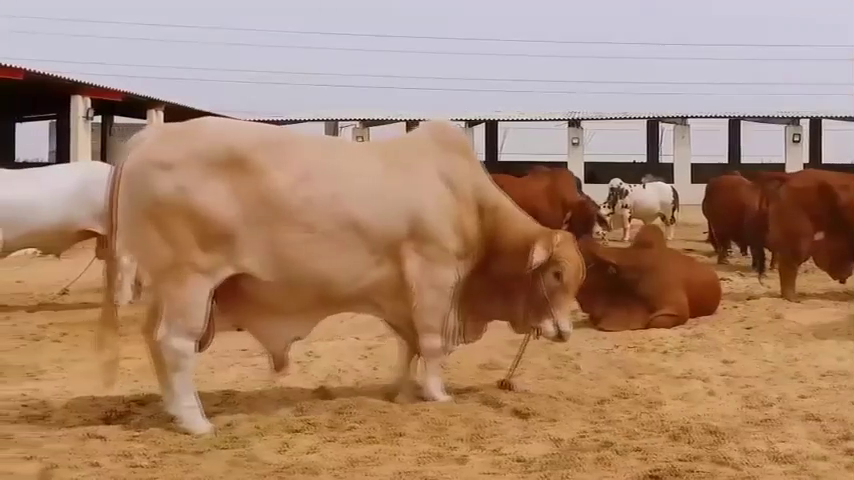bo: (88, 115, 592, 443), (2, 155, 141, 314), (568, 227, 724, 333), (746, 162, 854, 305), (478, 152, 604, 237), (599, 171, 689, 249), (697, 160, 749, 261)
